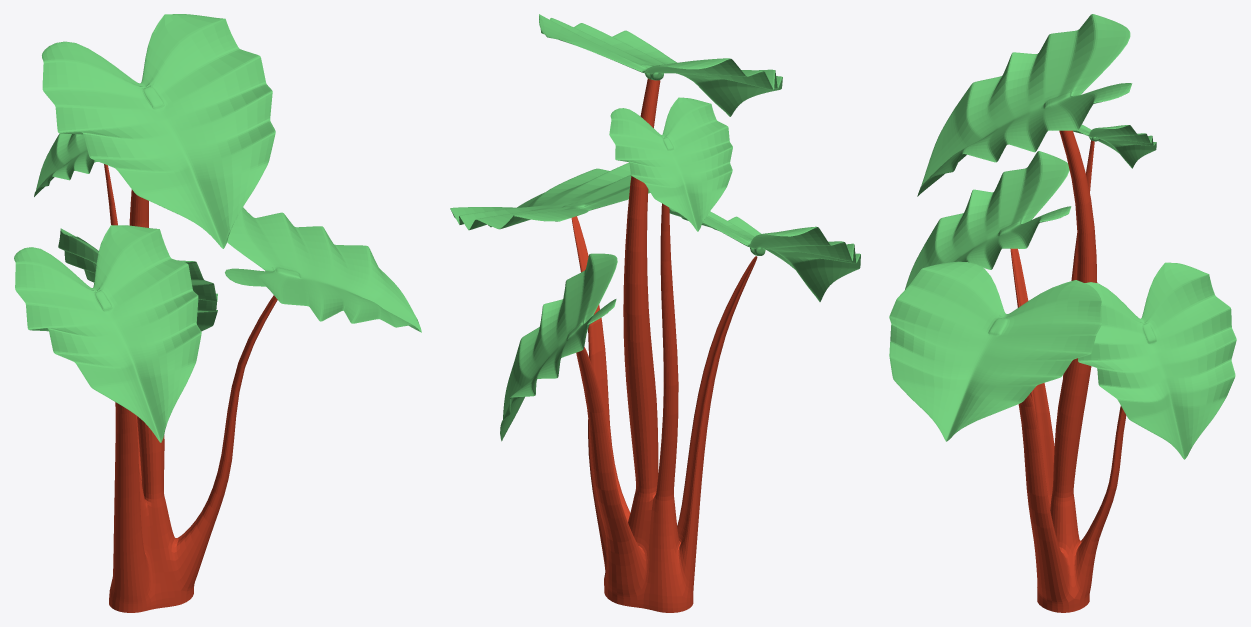
File: taro - Copie.fbx
The picture shows the model from 3 angles, left to right: view 1: azimuth 30°, elevation 25°; view 2: azimuth 150°, elevation 25°; view 3: azimuth 270°, elevation 25°; orthographic projection. The views are drawn at different scales.
Visible parts, largest first — view 1: corps; view 2: corps; view 3: corps.
Part boxes in pixels (<box>): corps: <box>14,14,421,612</box>; corps: <box>450,14,860,612</box>; corps: <box>889,14,1236,612</box>.
Bounding box in the file's own units: 531 × 751 × 441.
